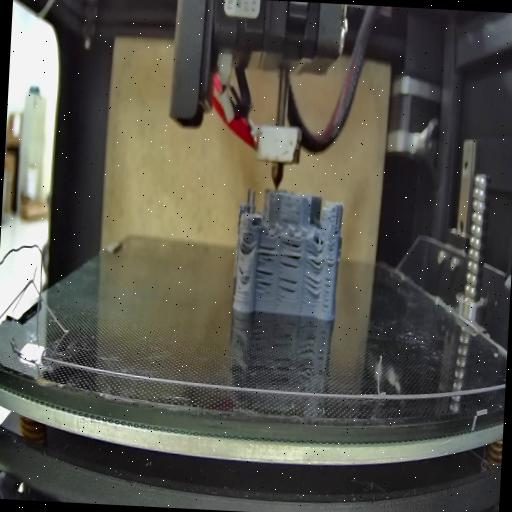cracks: (278, 239, 302, 269), (275, 275, 298, 300), (254, 268, 273, 298), (256, 242, 276, 263), (238, 232, 254, 256), (305, 275, 321, 298), (322, 276, 332, 310), (307, 254, 323, 271), (238, 264, 251, 284), (333, 222, 341, 236), (326, 258, 334, 268)
